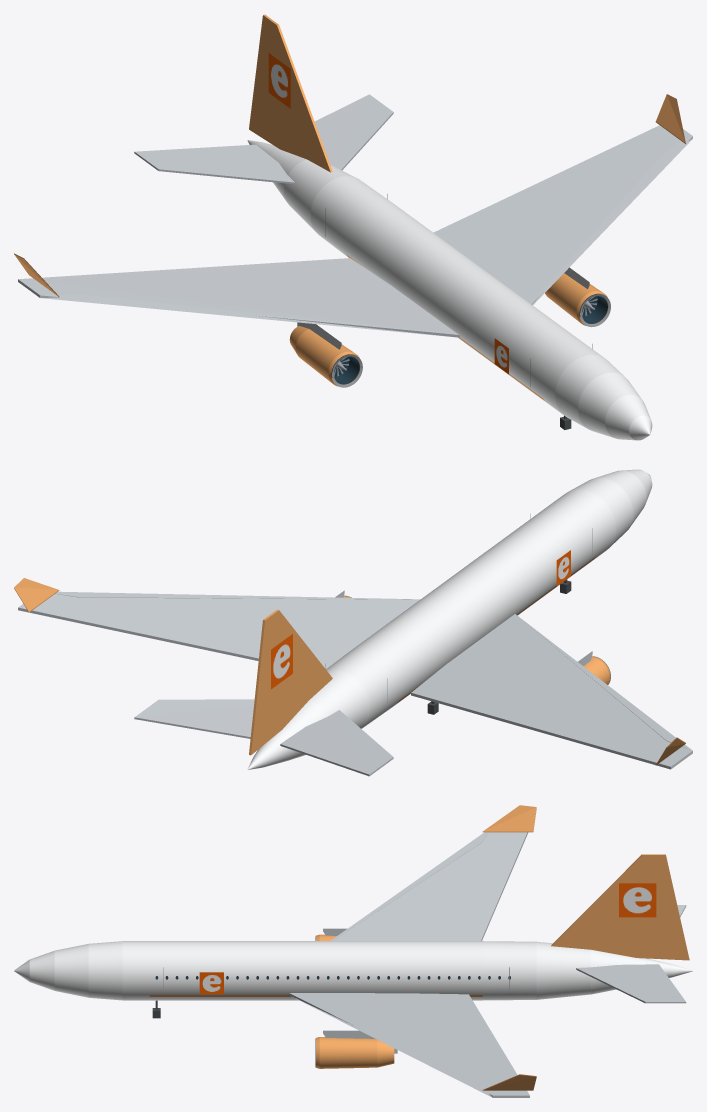
Rendered from a330-EZY-v3.gltf.
3 views of the same model, one above another, from view 1: azimuth 30°, elevation 25°; view 2: azimuth 150°, elevation 25°; view 3: azimuth 270°, elevation 25° (orthographic). The views are drawn at different scales.
Visible parts, largest first — view 1: object 1; view 2: object 1; view 3: object 1.
Boxes of the visible parts, <box> form: object 1: <box>14,14,692,440</box>; object 1: <box>14,469,692,776</box>; object 1: <box>14,805,692,1097</box>.
Bounding box in the file's own units: 60 × 16.88 × 64.
8 materials, 1 textured.
